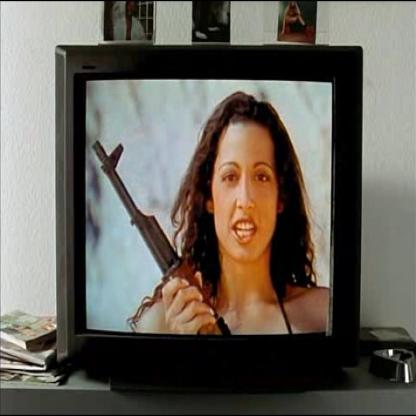Gun: (89, 135, 228, 336)
